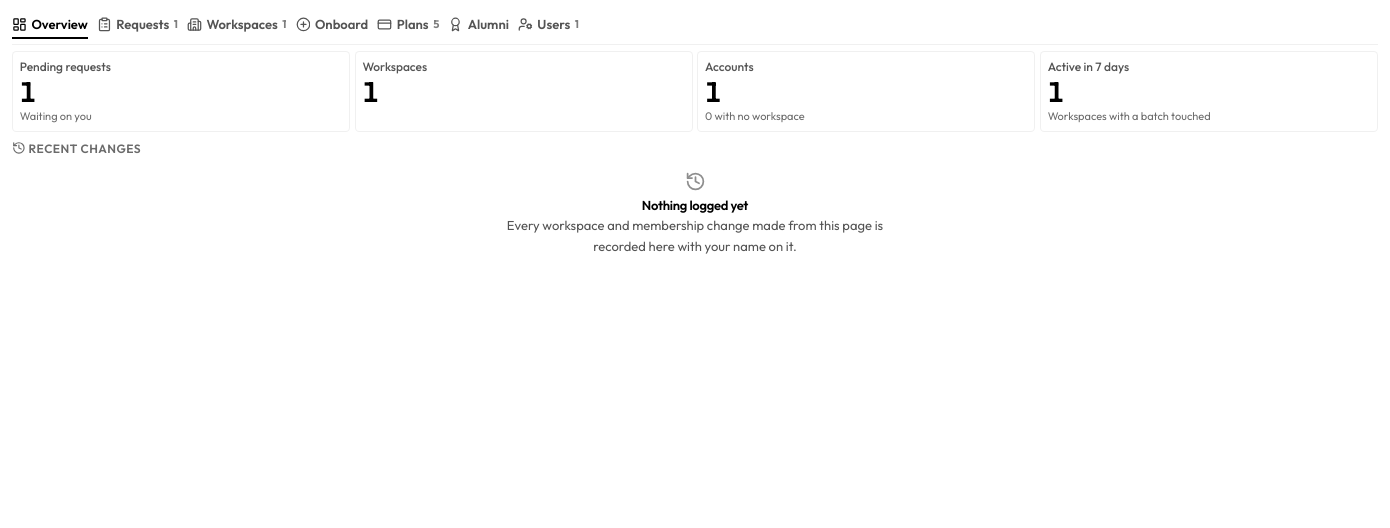
Scenario: FounderConsole — plan history and alumni › renders an unknown history source rather than crashing on it
Click the tab "Workspaces 1" at (237, 26), box [187, 12, 286, 39]
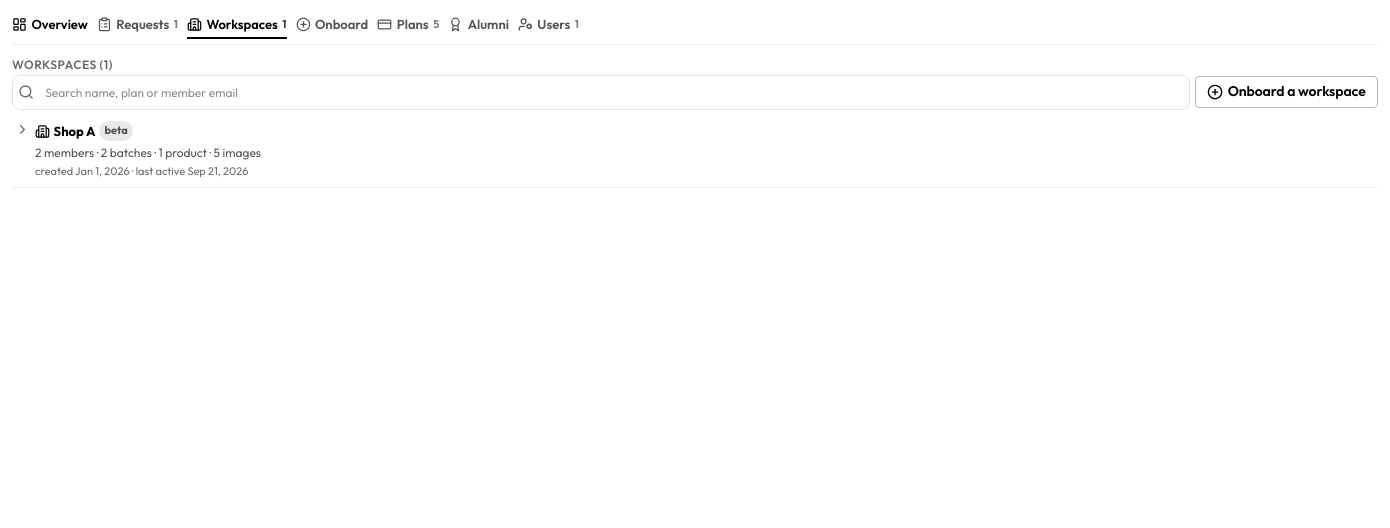
Click the button with class "fc-org-head" at (74, 131), box [12, 114, 1378, 187]
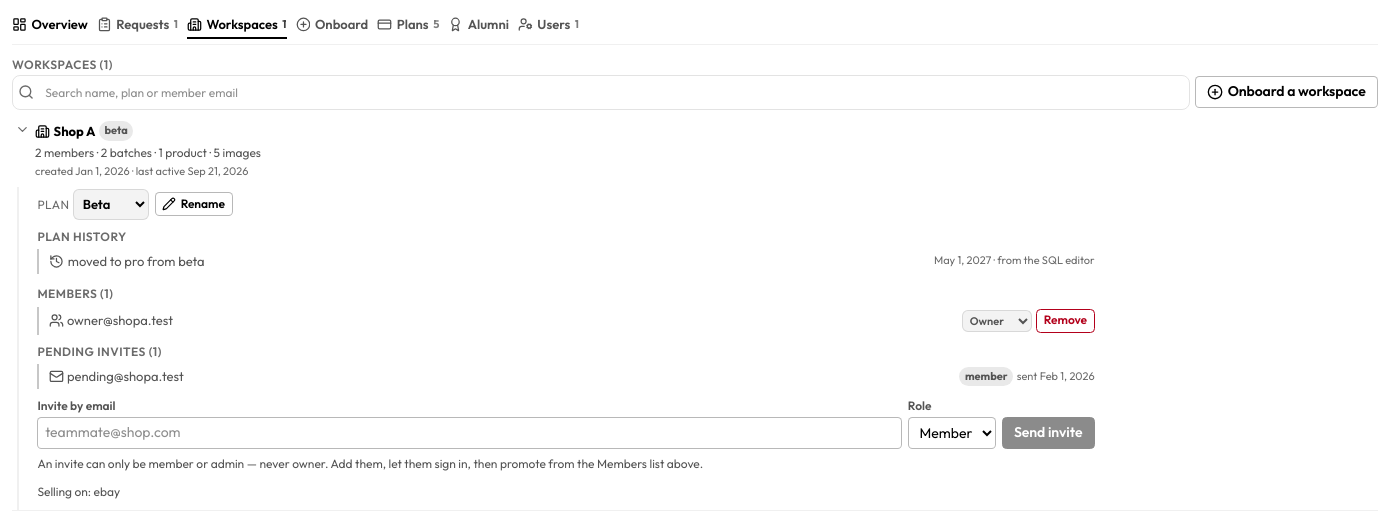
Expected: the element with class "fc-org-body" shows "moved to pro from beta", [68, 253, 205, 269]
